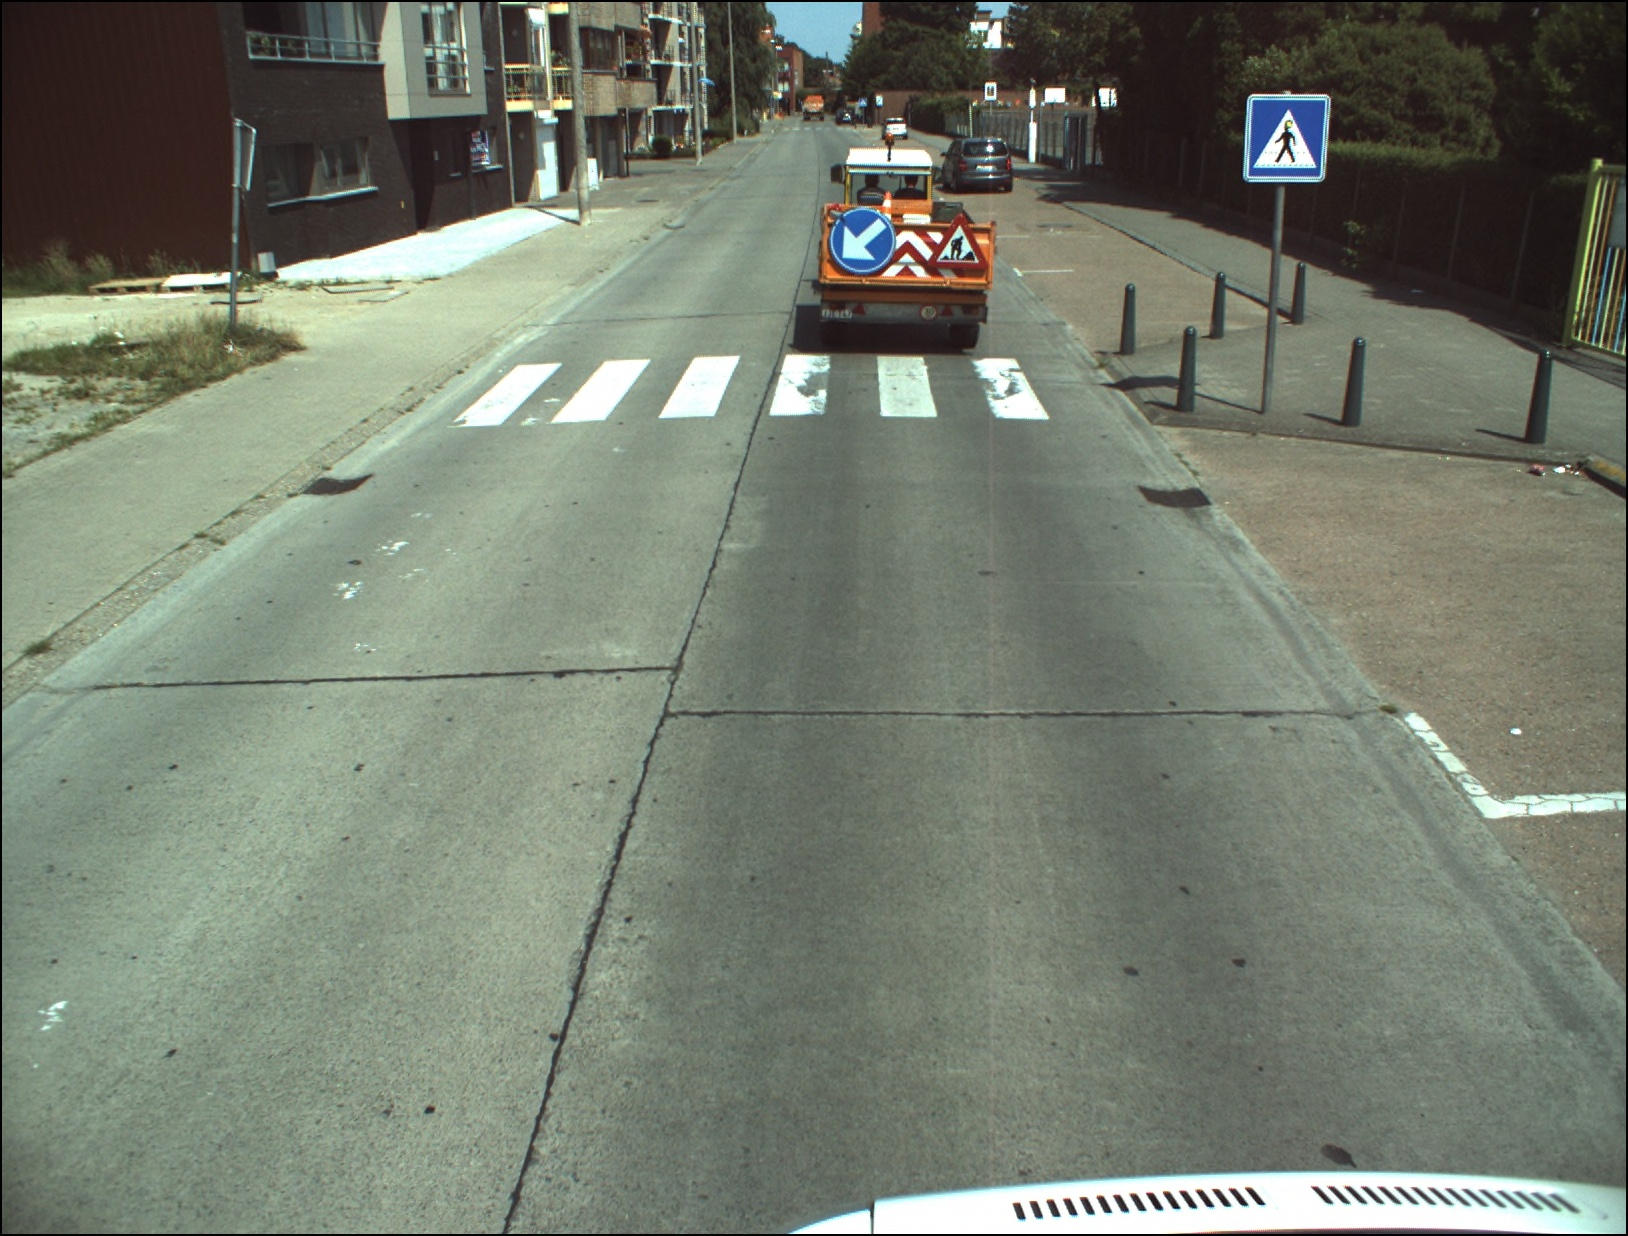construction: (925, 213, 990, 273)
passleft: (830, 206, 894, 273)
pedestrian: (1246, 94, 1327, 182)
